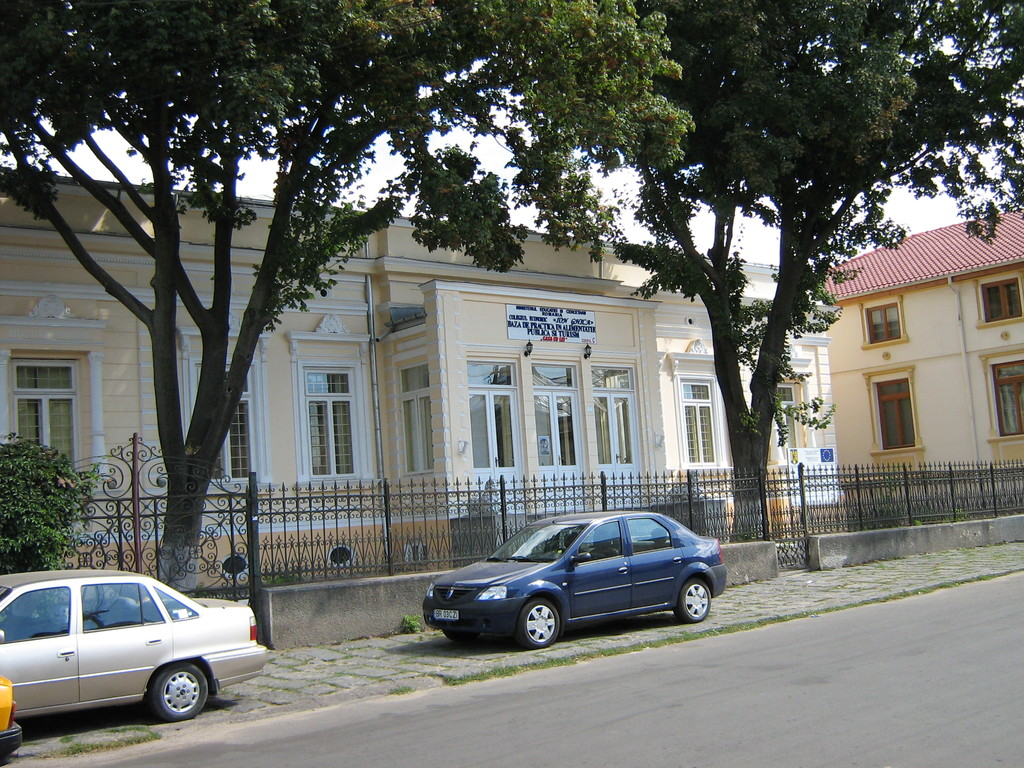Car: (0, 565, 270, 719), (412, 515, 718, 650), (0, 677, 20, 760)
